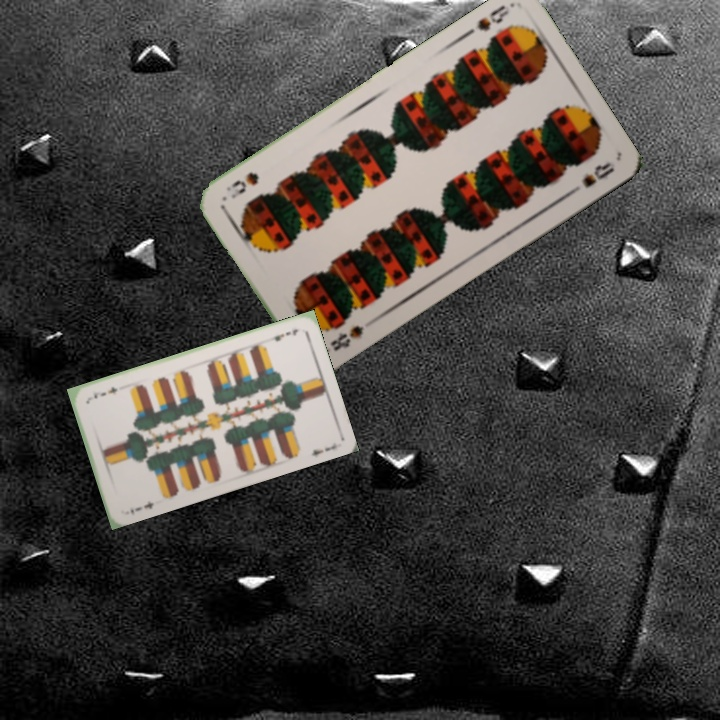E7: (264, 325, 301, 344), (126, 497, 156, 517)
S8: (325, 321, 366, 354), (473, 1, 512, 34)
